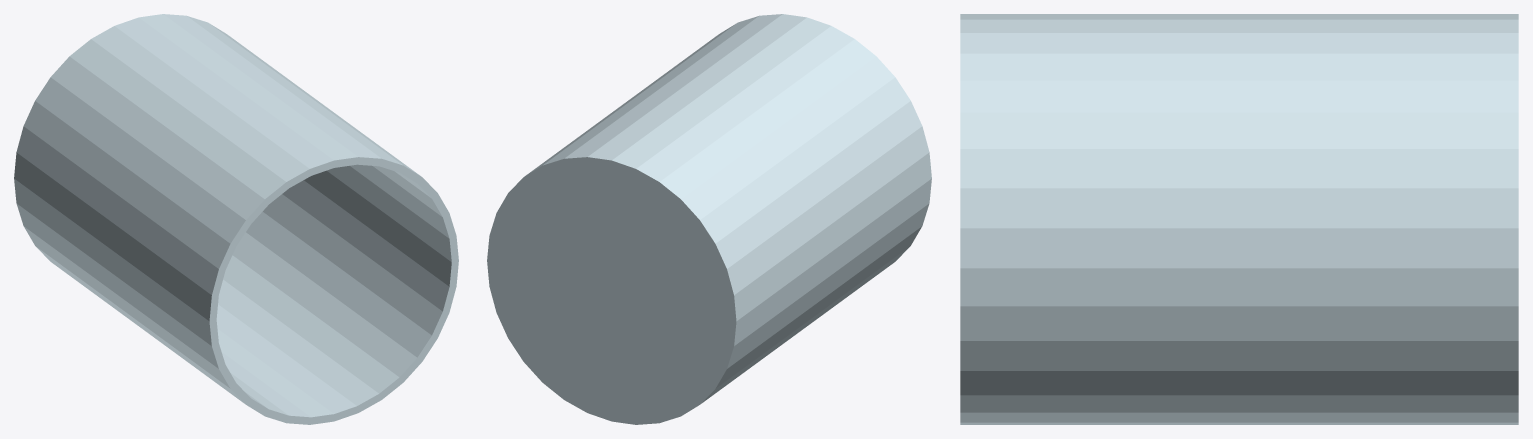
Rendered from beaker.obj.
3 views of the same model, side by side, from view 1: azimuth 30°, elevation 25°; view 2: azimuth 150°, elevation 25°; view 3: azimuth 270°, elevation 25° (orthographic). The views are drawn at different scales.
Visible parts, largest first — view 1: beaker_01.001; view 2: beaker_01.001; view 3: beaker_01.001.
Boxes of the visible parts, x1,y1,x2,y2 form: beaker_01.001: (14, 14, 458, 424); beaker_01.001: (487, 14, 931, 424); beaker_01.001: (960, 14, 1518, 424).
Size of the model in its own units: 0.07 by 0.07 by 0.095.
